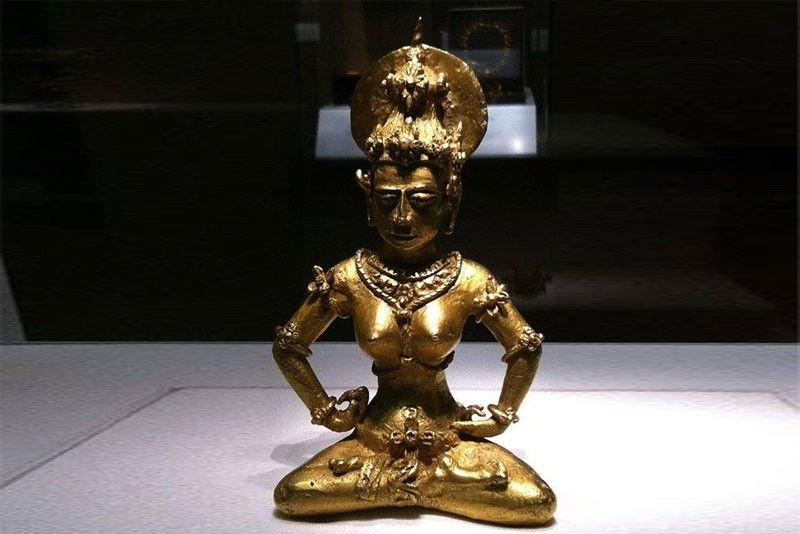golden_tara_of_agusan: (268, 15, 560, 527)
